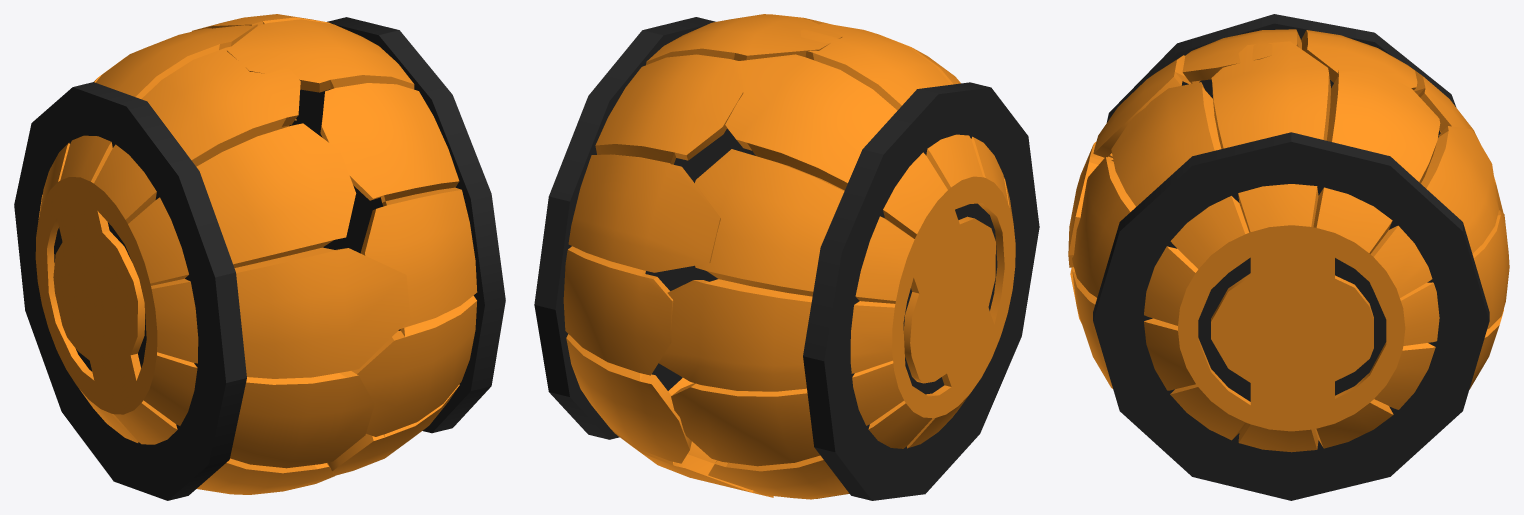
The model's file is Sphere4saw.fbx.
3 renders of one model, left to right at view 1: azimuth 30°, elevation 25°; view 2: azimuth 150°, elevation 25°; view 3: azimuth 270°, elevation 25°, orthographic. The views are drawn at different scales.
Parts seen in each view (by area): view 1: Sphere, Sphere.001; view 2: Sphere, Sphere.001; view 3: Sphere.001, Sphere.
Boxes of the visible parts, box(x1,y1,x2,y2) form: Sphere: box(14, 24, 410, 500); Sphere.001: box(192, 14, 505, 475); Sphere: box(659, 23, 1039, 500); Sphere.001: box(534, 14, 842, 497); Sphere.001: box(1072, 41, 1509, 500); Sphere: box(1068, 14, 1503, 323).
Bounding box in the file's own units: 134 × 166 × 168.
